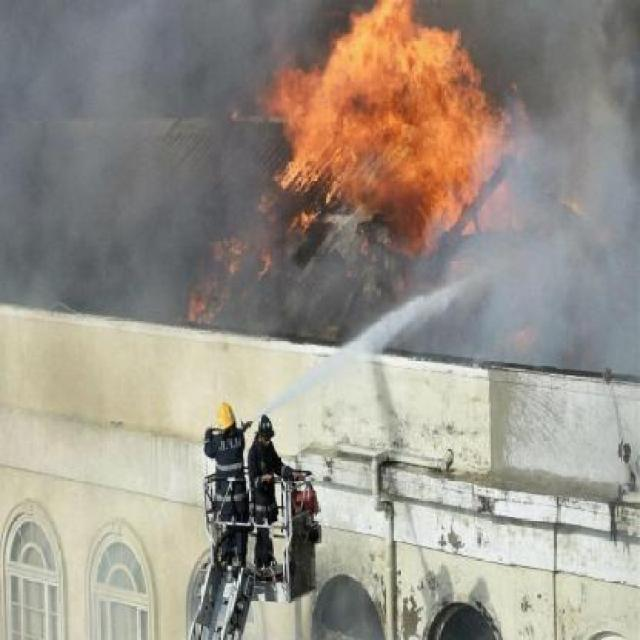Fire: (252, 11, 507, 272)
Smoke: (7, 24, 230, 314), (518, 53, 629, 369)
